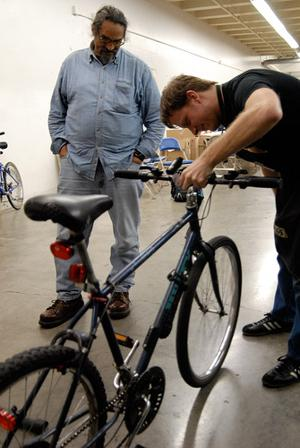person: (161, 72, 300, 392)
